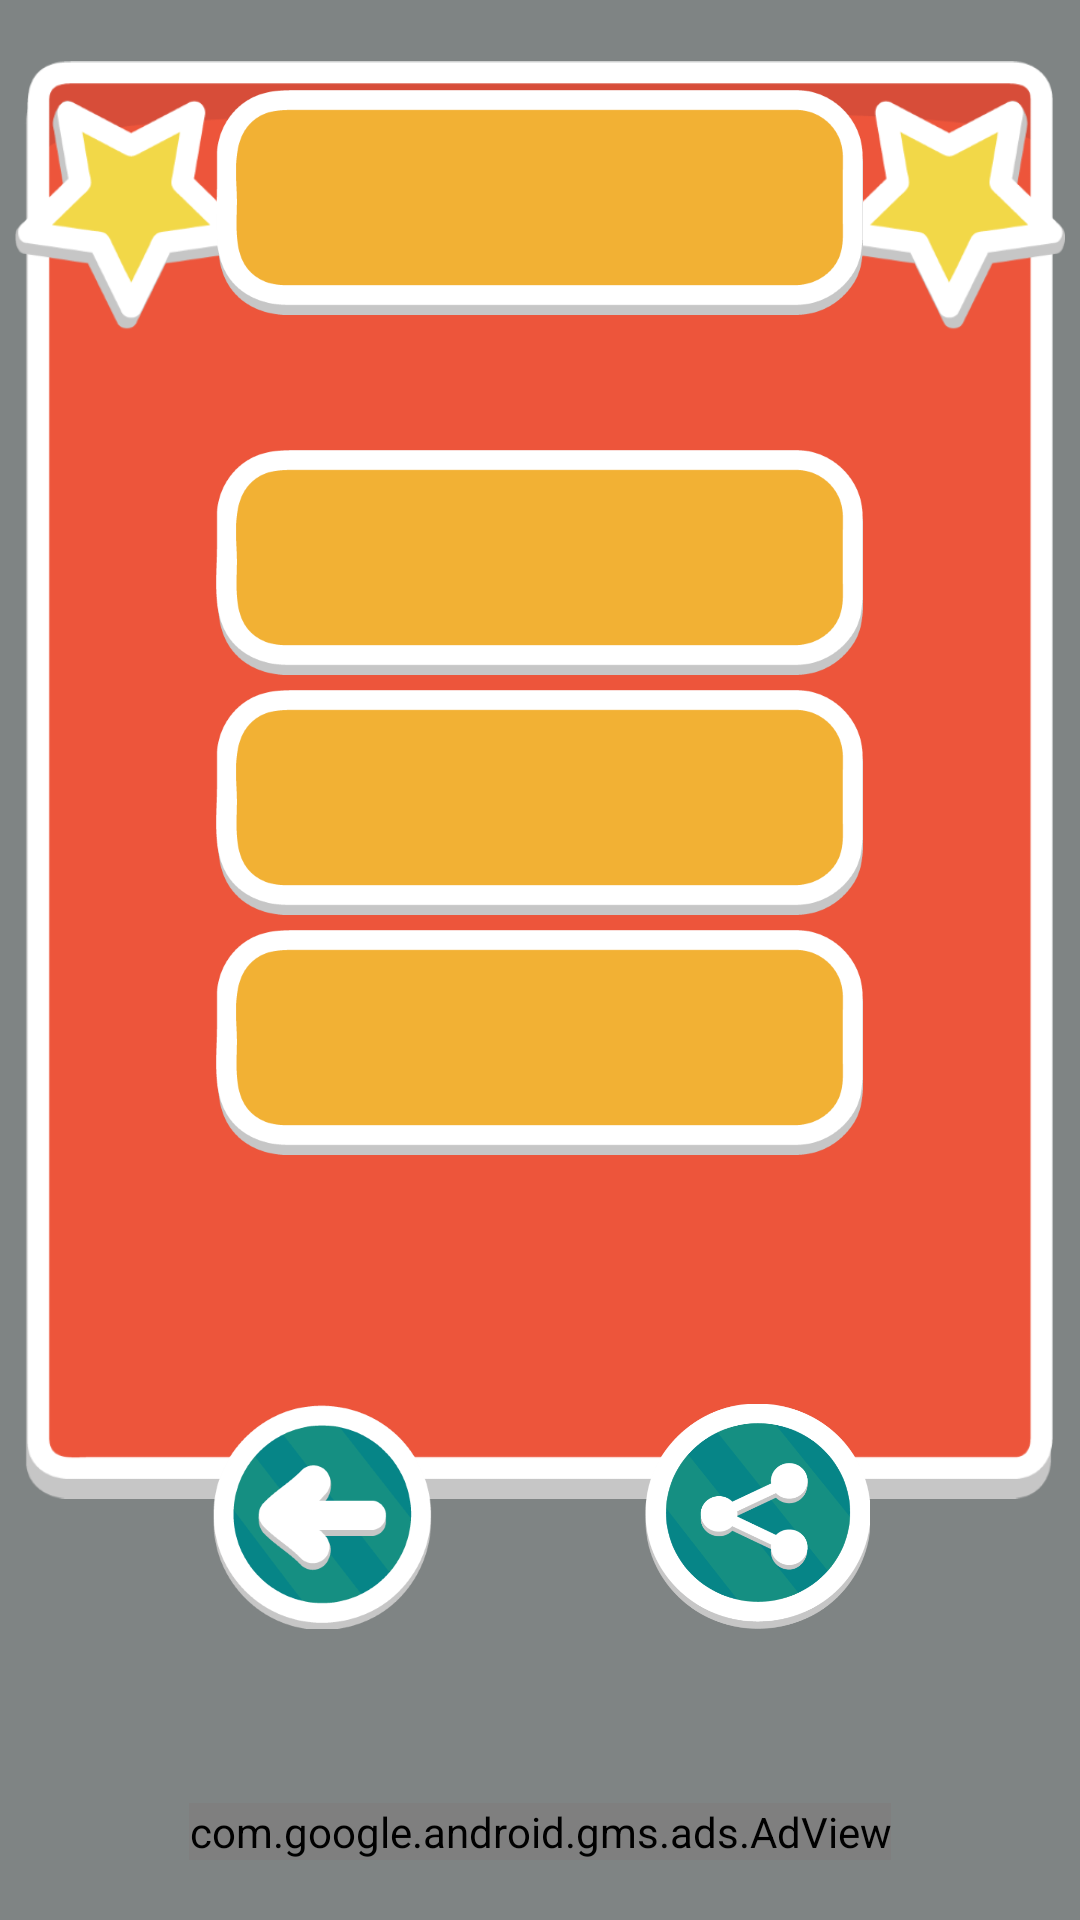

Screen size 1080×1920. Icon name, then its center in pixels as (x=x, y=y):
back: (x=322, y=1516)
share: (x=757, y=1516)
